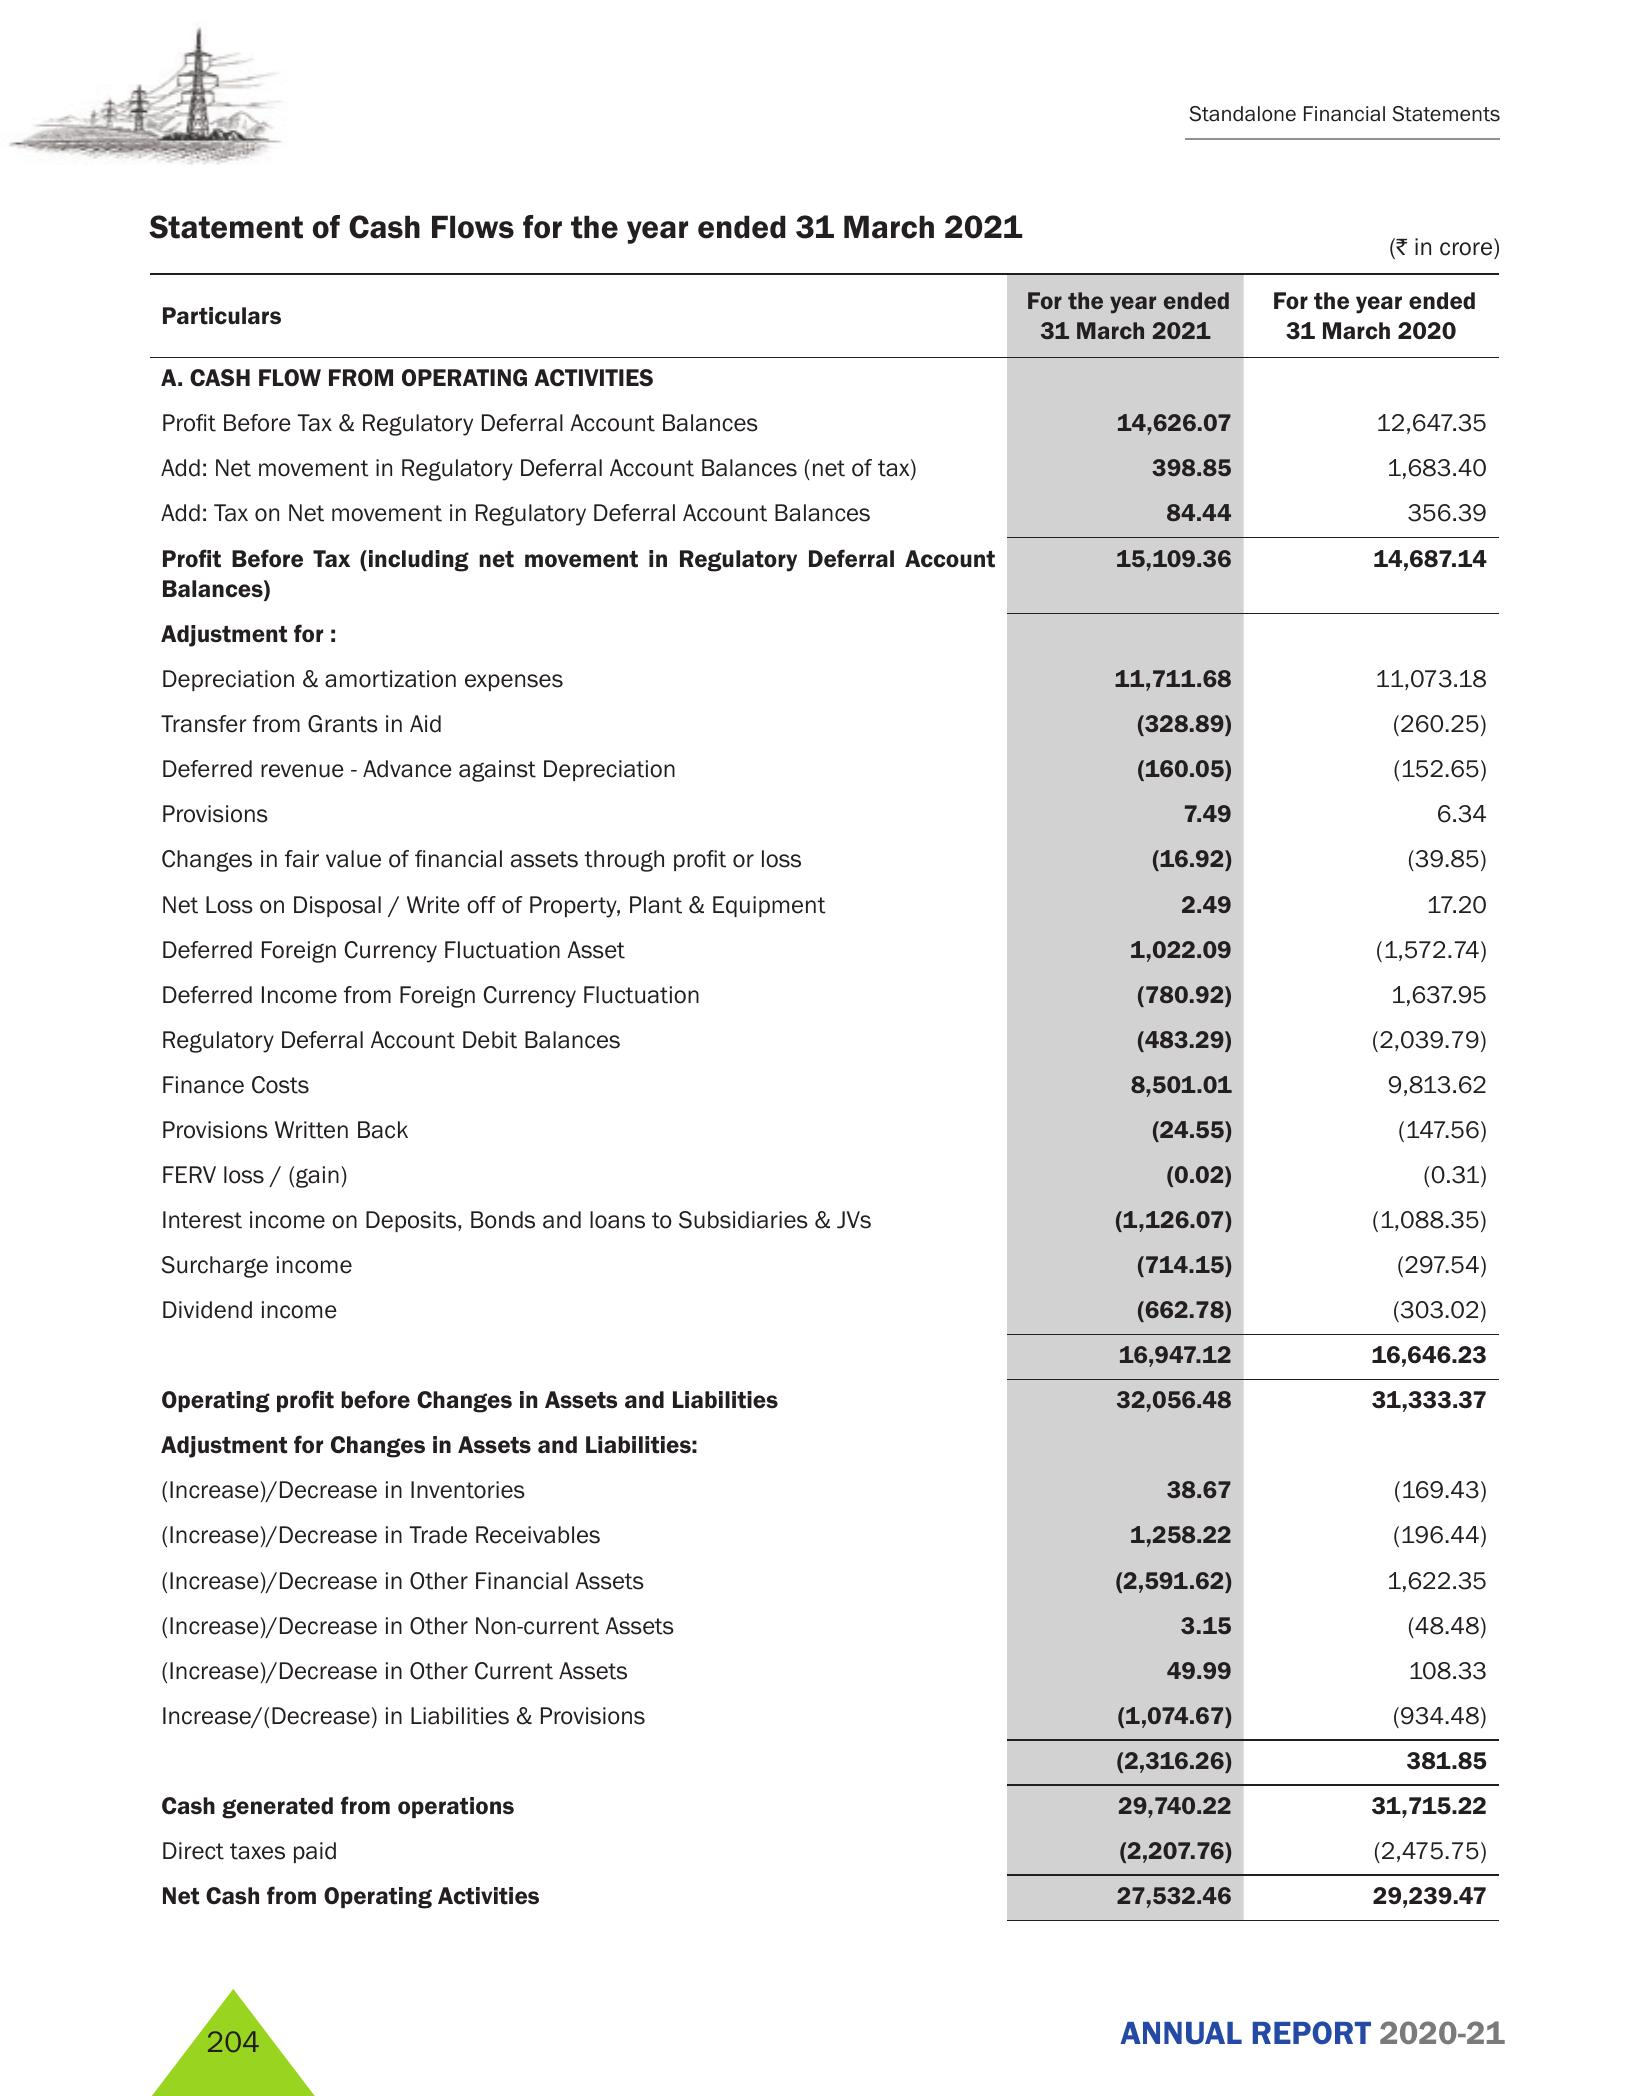Footer: (0, 1968, 1650, 2096)
Header: (0, 0, 1650, 172)
Table: (117, 253, 1511, 1921)
